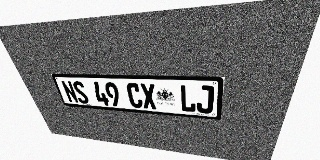4: (91, 82, 110, 106)
9: (103, 82, 122, 107)
C: (125, 83, 143, 108)
J: (196, 85, 214, 114)
L: (179, 85, 196, 113)
N: (60, 81, 79, 103)
S: (71, 81, 90, 104)
X: (140, 83, 157, 109)
